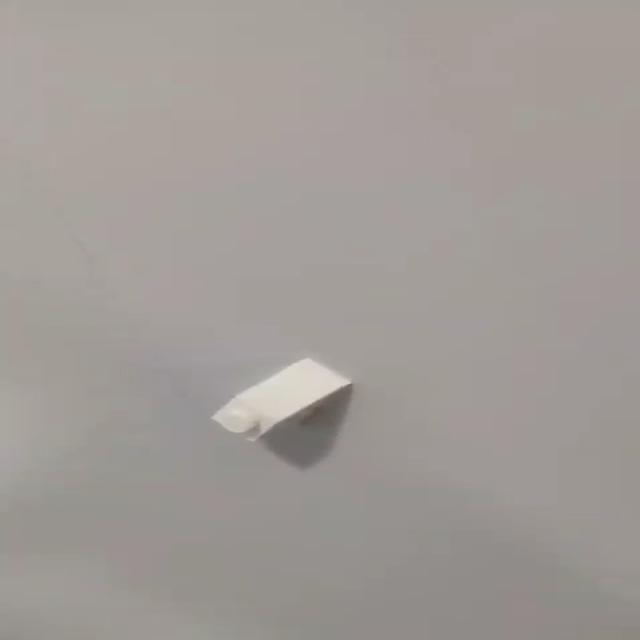P1x2x1: (212, 359, 358, 448)
